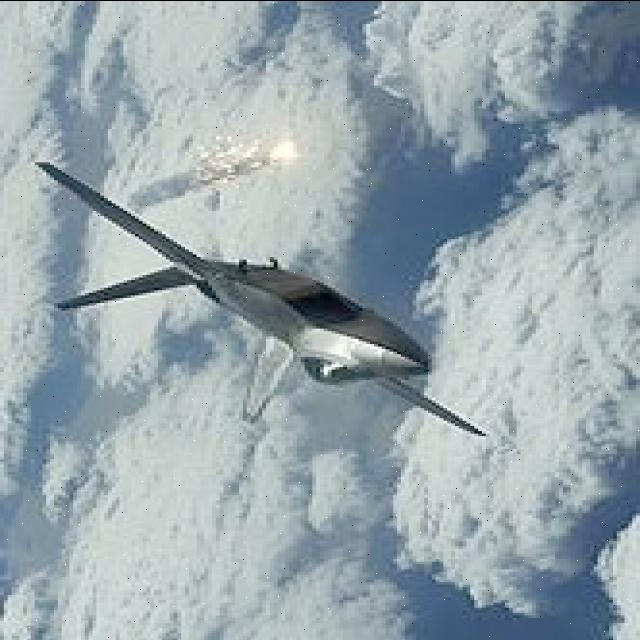F22: (0, 98, 547, 525)
